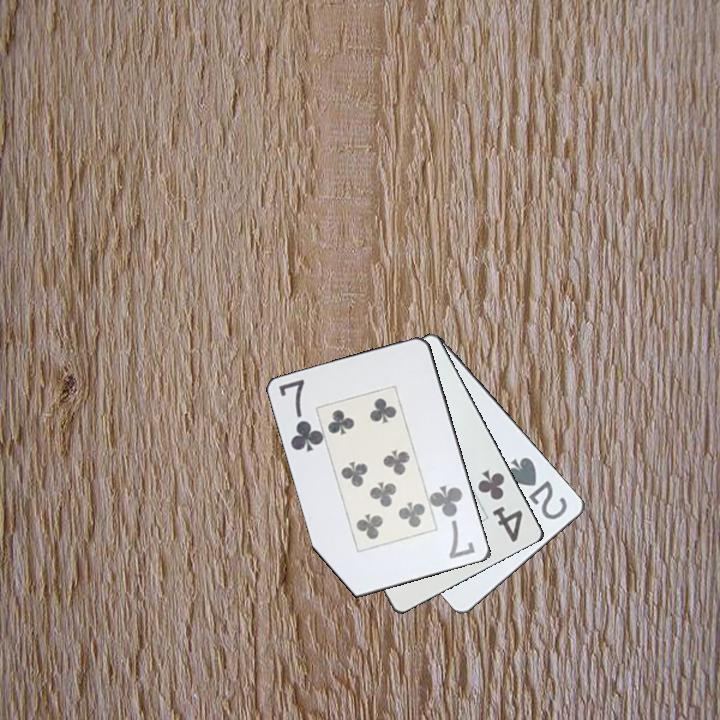2s: (504, 454, 571, 523)
4c: (474, 466, 526, 545)
7c: (276, 376, 326, 455), (429, 482, 478, 562)
